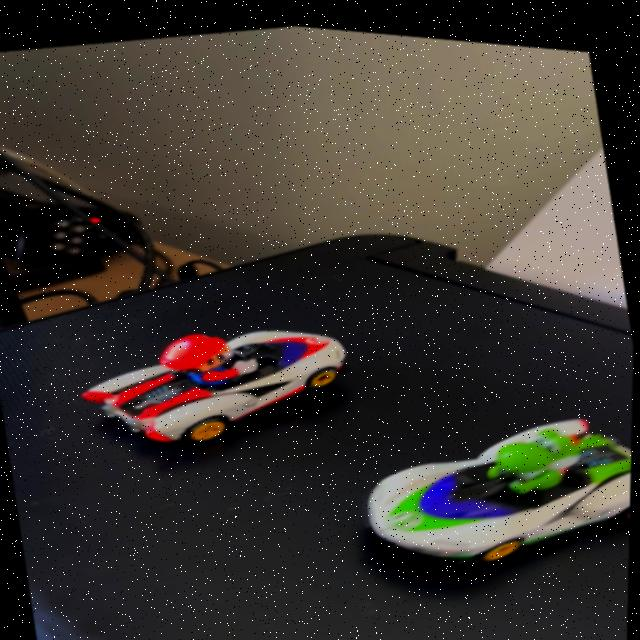mario: (48, 278, 385, 478)
yoshi: (332, 369, 634, 588)
